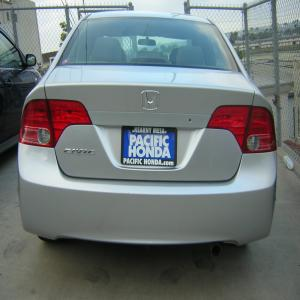Vehicle-registration-plate: (119, 123, 181, 172)
